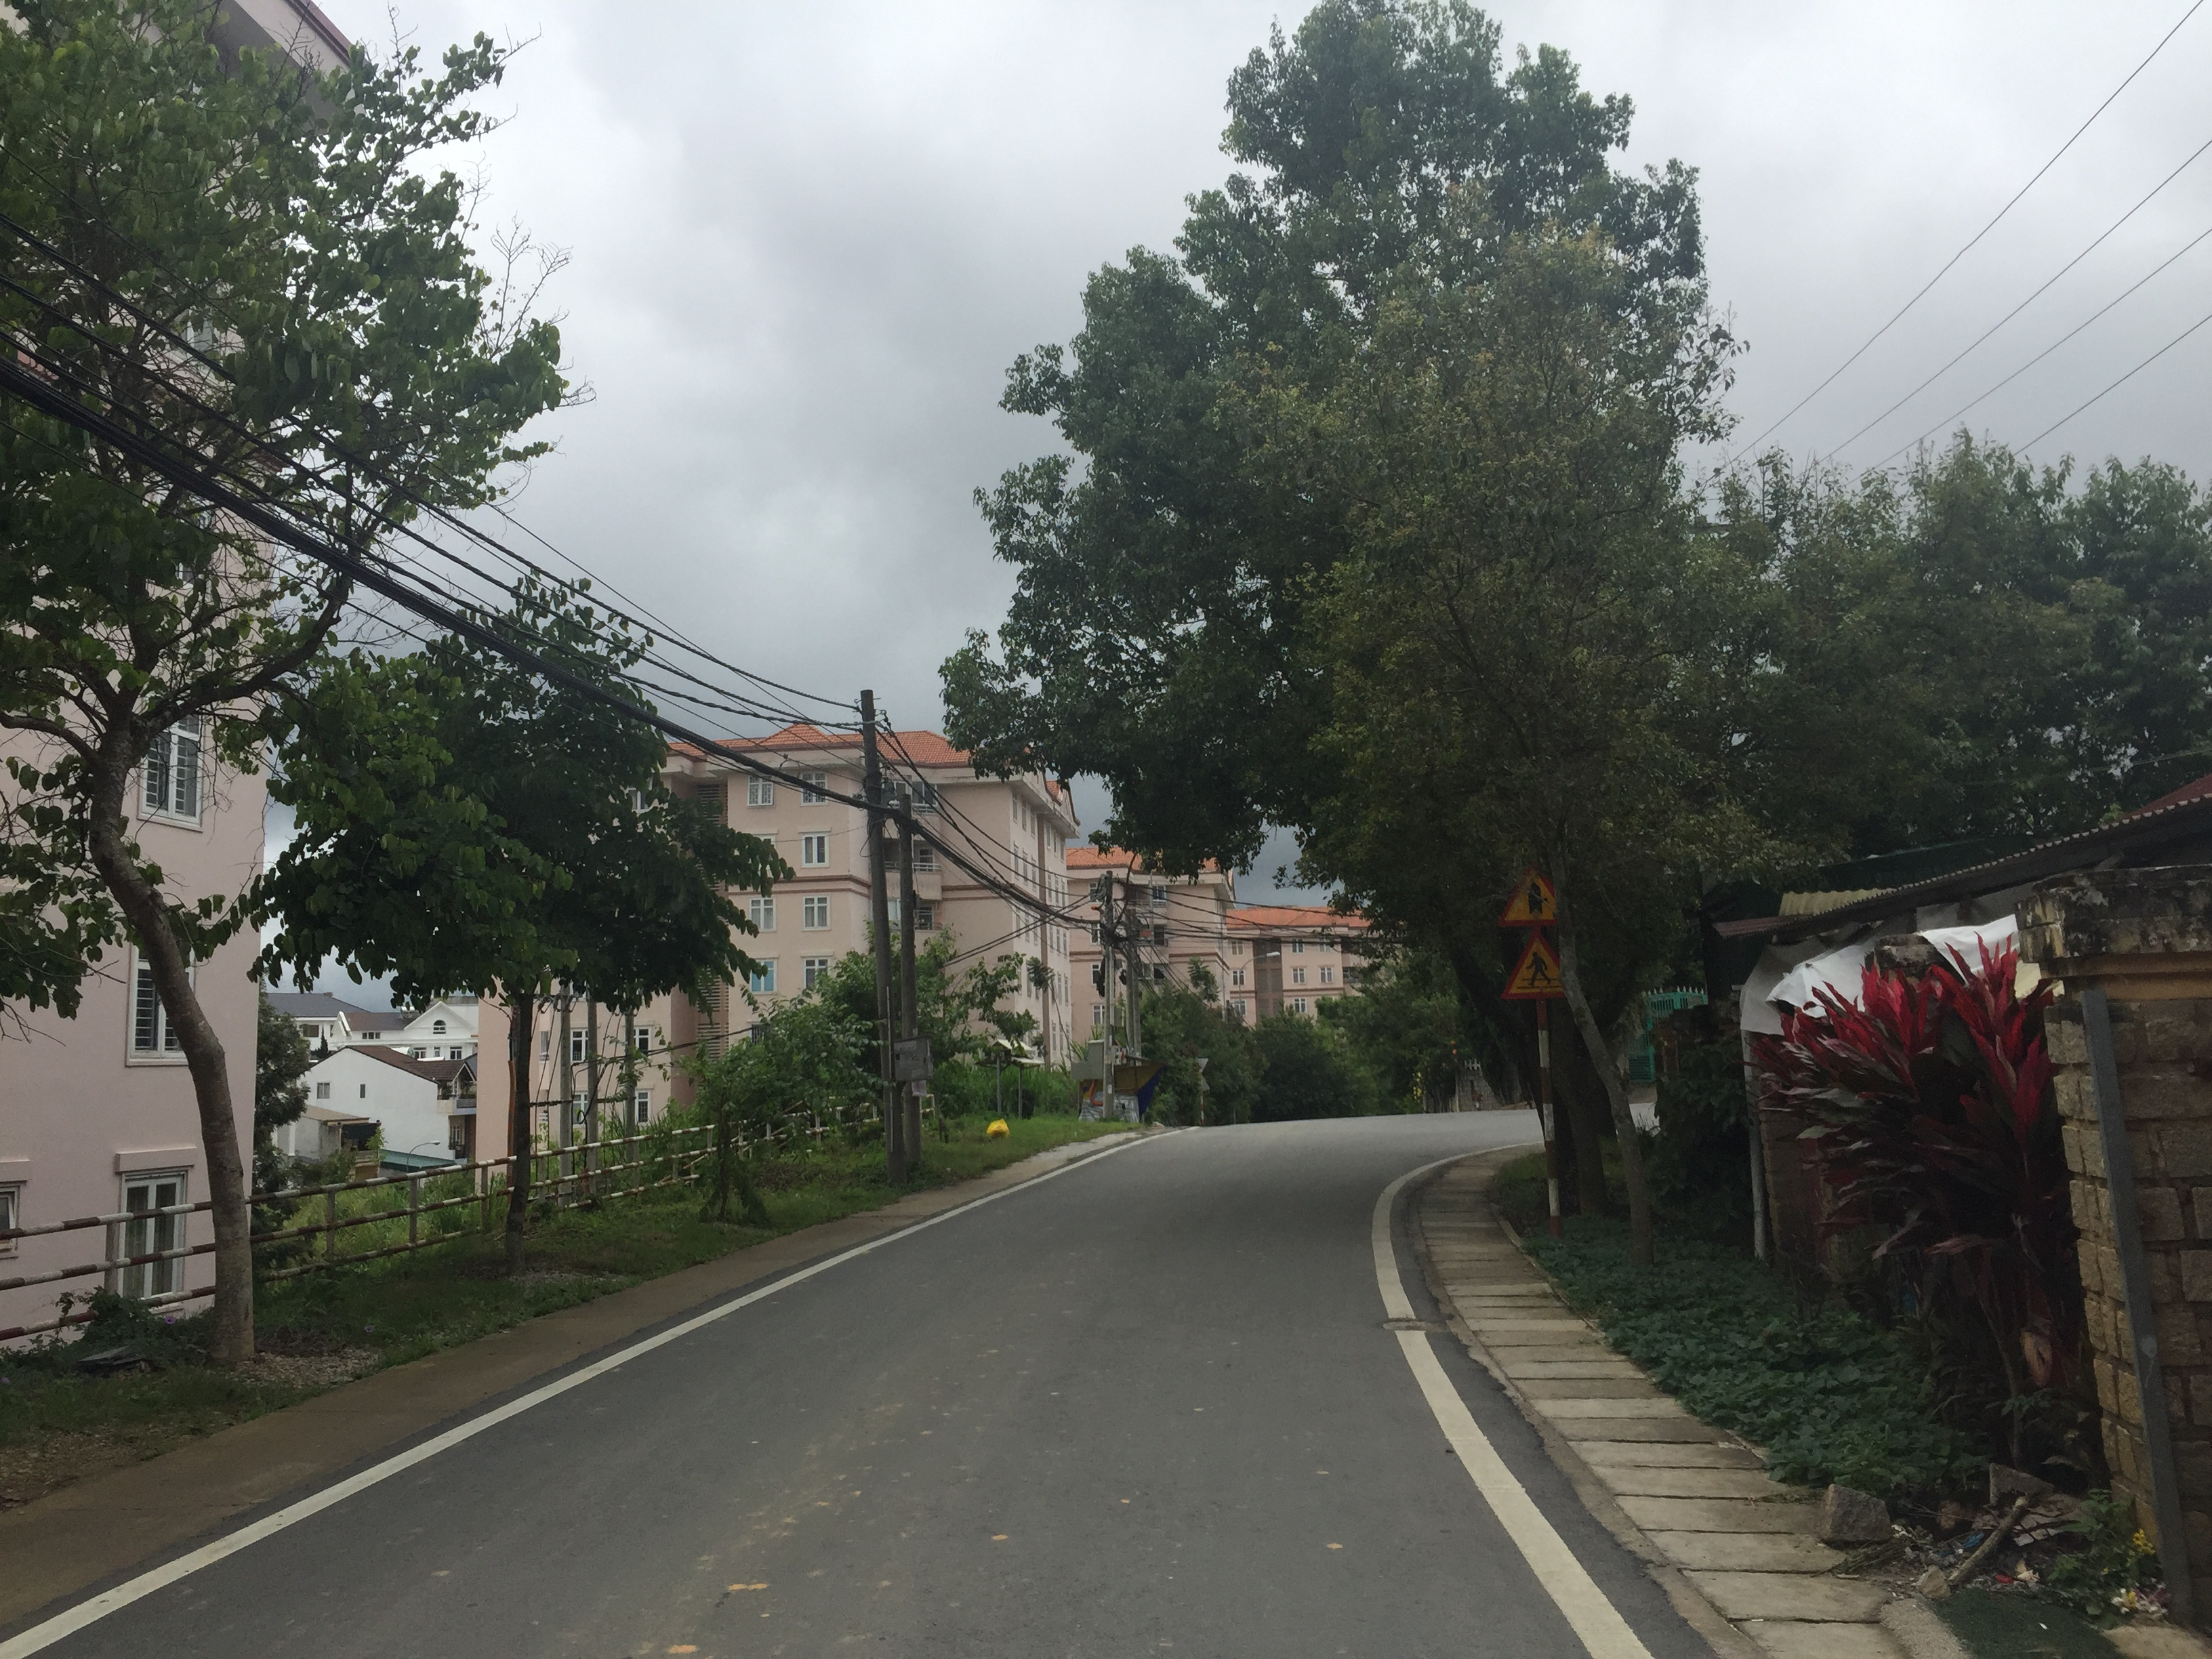hole: (1379, 1317, 1447, 1333)
